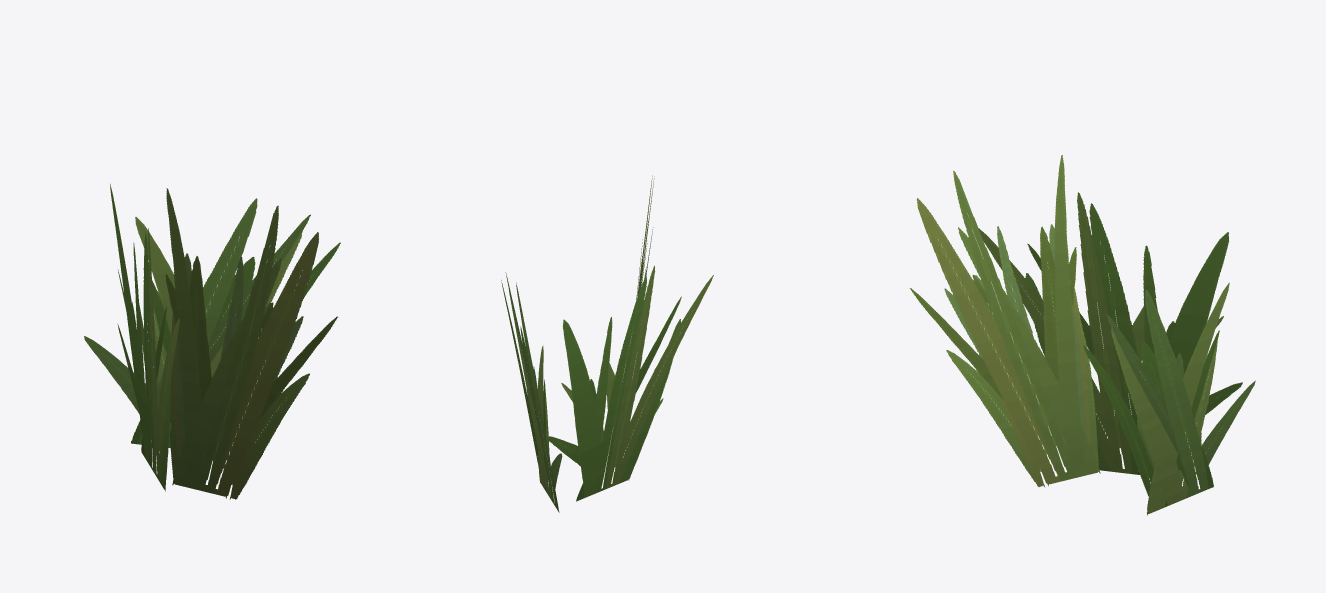
The model's file is forest_grass_002_c_LOD2.gltf.
3 renders of one model, left to right at view 1: azimuth 30°, elevation 25°; view 2: azimuth 150°, elevation 25°; view 3: azimuth 270°, elevation 25°, orthographic. The views are drawn at different scales.
Visible parts, largest first — view 1: forest_grass_002_c_LOD2; view 2: forest_grass_002_c_LOD2; view 3: forest_grass_002_c_LOD2.
Part boxes in pixels (x1,y1,x2,y2): forest_grass_002_c_LOD2: (84,184,340,499); forest_grass_002_c_LOD2: (501,175,713,512); forest_grass_002_c_LOD2: (909,155,1255,515).
Size of the model in its own units: 0.4475 by 0.6695 by 0.6611.
1 material, 1 textured.
